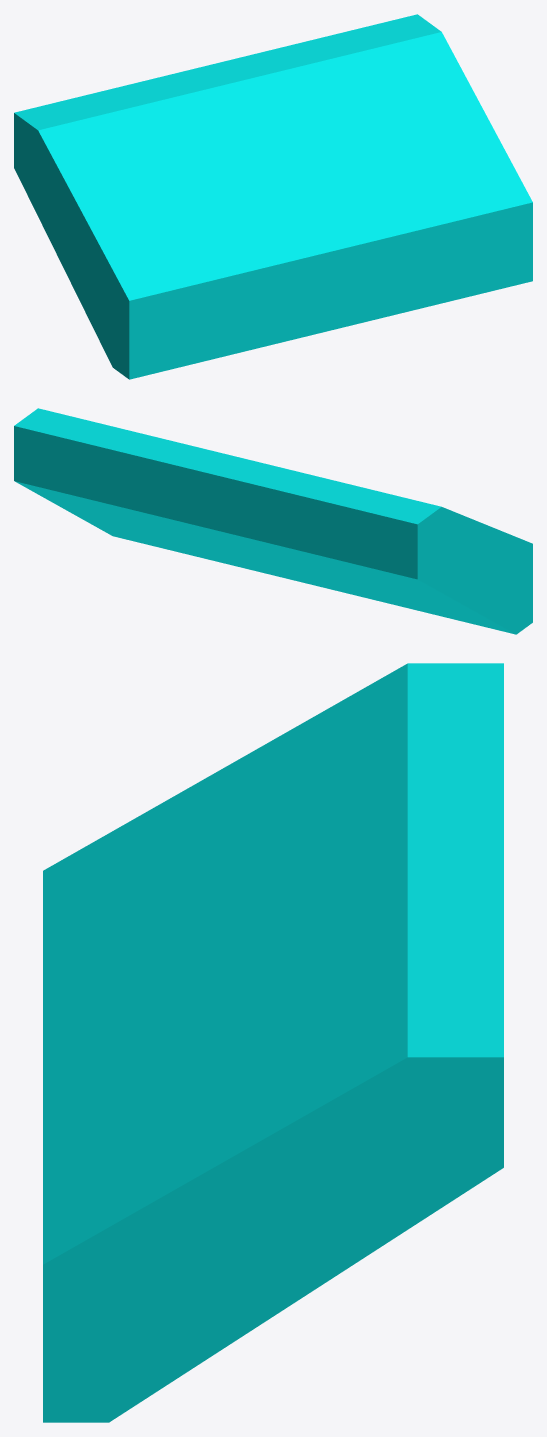
Rendered from SM_Bld_Stairs_Tiles_Half_01_Collision.fbx.
3 views of the same model, one above another, from view 1: azimuth 30°, elevation 25°; view 2: azimuth 150°, elevation 25°; view 3: azimuth 270°, elevation 25° (orthographic). The views are drawn at different scales.
Visible parts, largest first — view 1: SM_Bld_Stairs_Tiles_Half_01_Collision; view 2: SM_Bld_Stairs_Tiles_Half_01_Collision; view 3: SM_Bld_Stairs_Tiles_Half_01_Collision.
Boxes of the visible parts, x1,y1,x2,y2 form: SM_Bld_Stairs_Tiles_Half_01_Collision: (14,14,532,379); SM_Bld_Stairs_Tiles_Half_01_Collision: (14,408,532,634); SM_Bld_Stairs_Tiles_Half_01_Collision: (43,663,503,1422).
Bounding box in the file's own units: 250 × 108 × 124.
